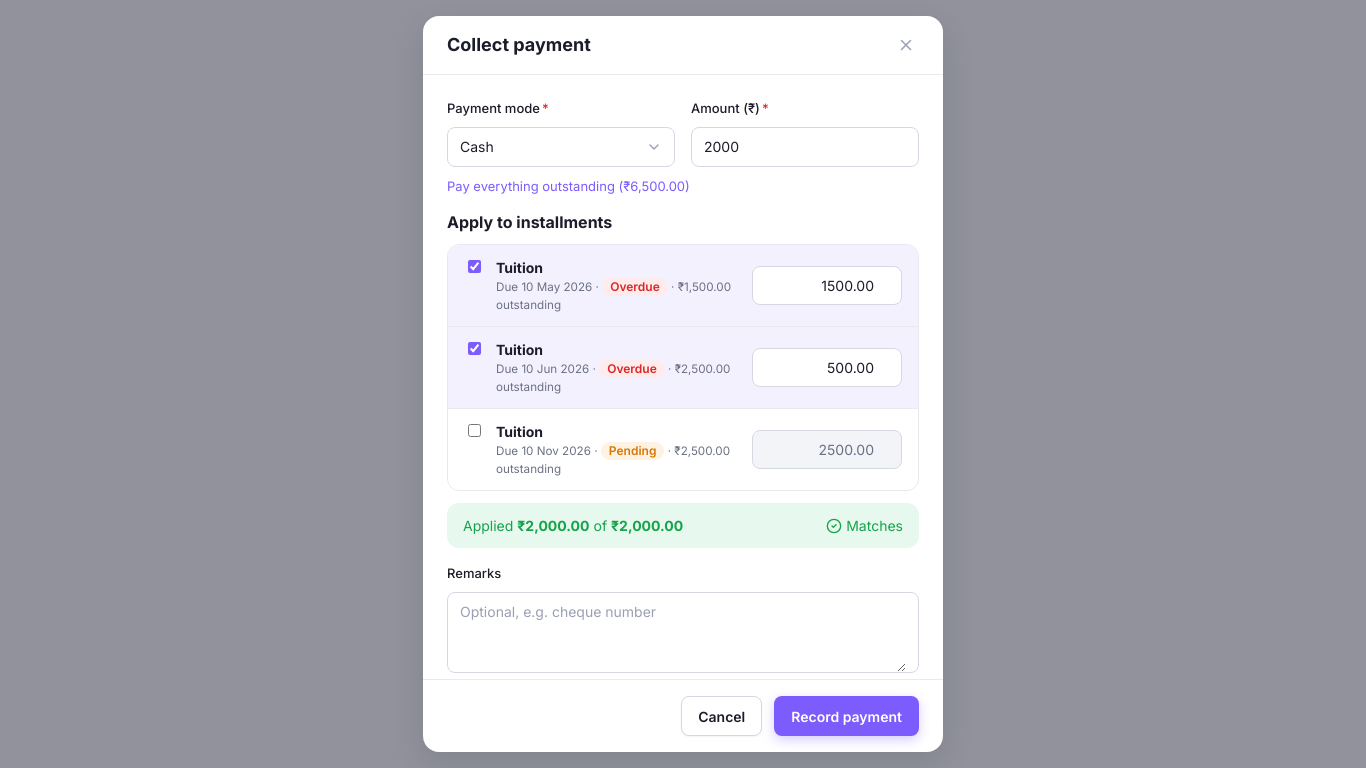
it: CollectPaymentDialogComponent › an allocation above what an installment still owes is an error and blocks submit
Replace the text in the number field named "Amount for Tuition due 10 May 2026" with "2000": (827, 286) 752,266 -> 902,305
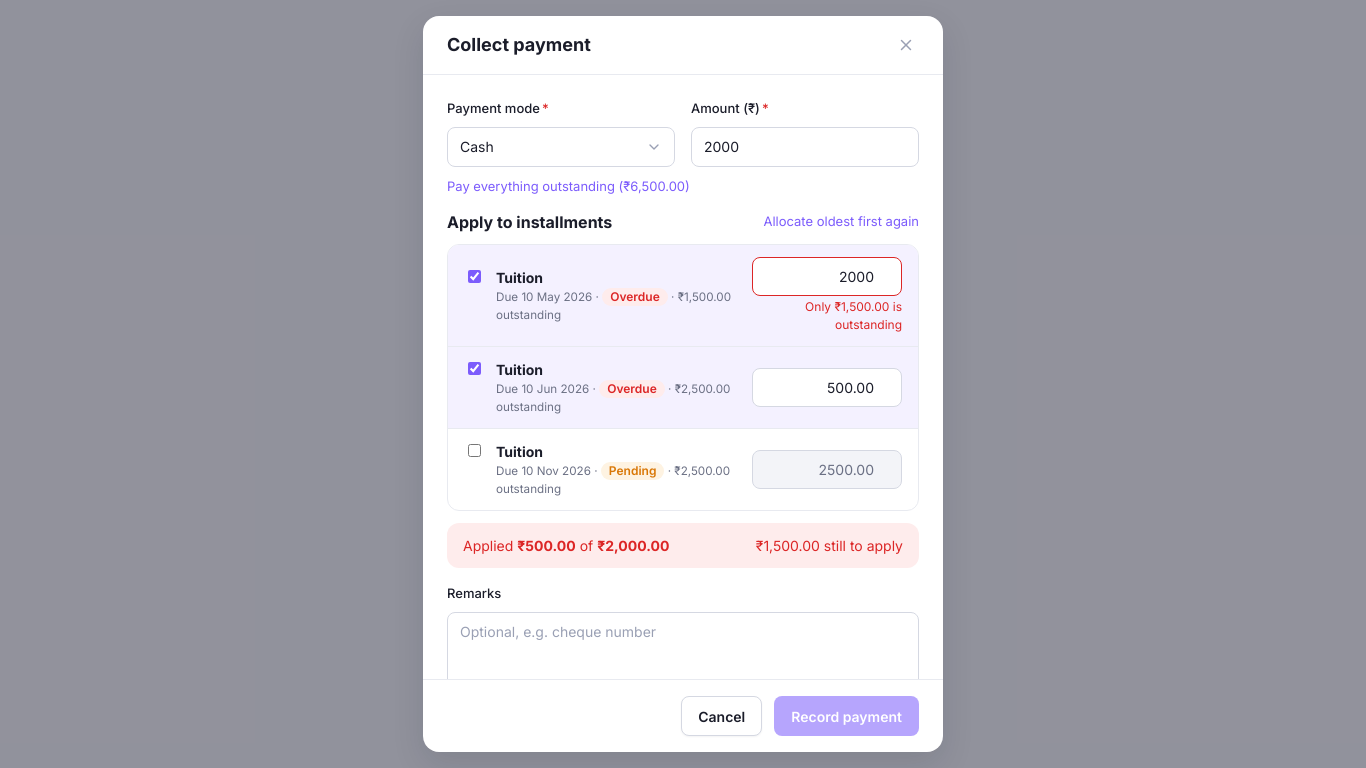
Expected: the button "Record payment" is disabled, 774,696 -> 919,736
